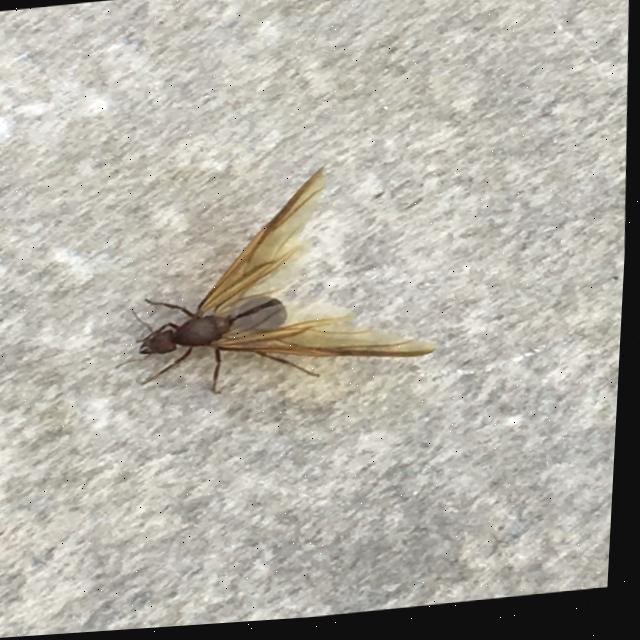Alive-Female-Alate: (110, 158, 450, 407)
